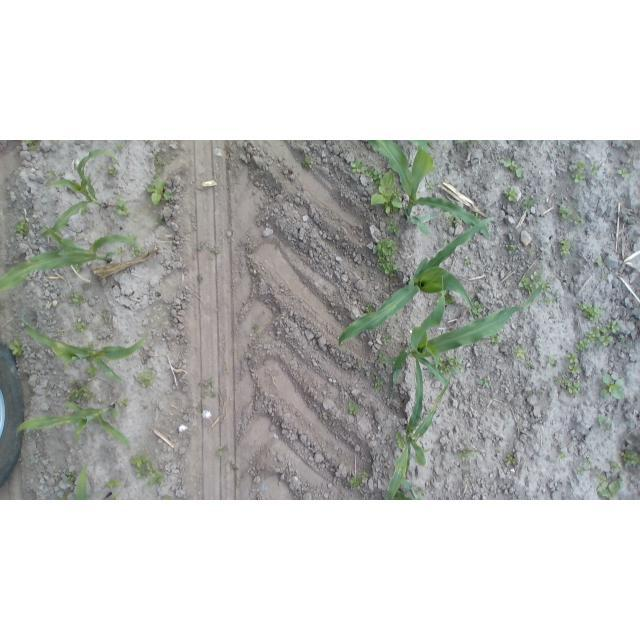Maize: (385, 269, 546, 403), (339, 217, 494, 348), (362, 140, 490, 240), (0, 221, 142, 292), (384, 360, 453, 501), (21, 309, 146, 384), (41, 150, 121, 238), (17, 403, 130, 450), (75, 464, 118, 501), (395, 478, 421, 500), (81, 205, 90, 216)
Weeds: (370, 169, 403, 214), (585, 320, 620, 347), (376, 238, 399, 278), (600, 374, 625, 400), (147, 179, 171, 206), (597, 477, 624, 500), (578, 302, 605, 323), (518, 271, 541, 293), (438, 354, 463, 374), (501, 158, 524, 179), (146, 462, 165, 487), (68, 385, 93, 403), (366, 167, 385, 190), (115, 195, 132, 217), (620, 450, 640, 467), (350, 472, 367, 491), (137, 371, 156, 388), (560, 378, 580, 394), (567, 352, 581, 374), (436, 290, 455, 306), (68, 292, 85, 309), (559, 204, 577, 220), (457, 447, 479, 460), (598, 413, 612, 433), (130, 454, 148, 469), (350, 158, 368, 173), (9, 339, 24, 357), (444, 211, 460, 227), (13, 220, 29, 236), (387, 219, 402, 235), (559, 238, 571, 257), (204, 381, 217, 398), (512, 347, 527, 361), (470, 301, 483, 317), (574, 338, 590, 351), (523, 194, 534, 212), (505, 187, 518, 202), (396, 432, 406, 451), (591, 469, 605, 482), (572, 170, 585, 184), (86, 363, 98, 378), (504, 452, 517, 465), (348, 401, 360, 415), (105, 479, 121, 489), (373, 376, 383, 392), (478, 376, 491, 388), (131, 246, 144, 258), (540, 296, 557, 305), (590, 161, 600, 176), (66, 472, 77, 485), (302, 155, 313, 168), (76, 322, 89, 333), (547, 355, 557, 369), (24, 140, 39, 149), (136, 468, 148, 479), (106, 167, 118, 178), (618, 168, 631, 178), (488, 336, 502, 345), (217, 447, 228, 458), (73, 263, 84, 274), (381, 334, 391, 346), (120, 398, 129, 411), (610, 462, 622, 471), (573, 161, 585, 170), (153, 218, 165, 227), (116, 246, 126, 256), (543, 281, 552, 292), (577, 466, 588, 475), (156, 156, 165, 167), (154, 169, 163, 180), (59, 492, 69, 501), (365, 304, 373, 315), (454, 141, 482, 144), (472, 212, 481, 221), (575, 217, 584, 226), (210, 246, 220, 254), (595, 256, 603, 266), (47, 169, 56, 177), (464, 256, 471, 266), (527, 361, 534, 371), (426, 182, 434, 190), (417, 489, 425, 497), (130, 234, 138, 242), (197, 242, 204, 251), (529, 246, 535, 256), (197, 405, 203, 415), (558, 453, 566, 460), (379, 354, 386, 362), (253, 323, 260, 331), (507, 245, 516, 251), (554, 377, 561, 384), (116, 144, 123, 151), (357, 360, 362, 368), (430, 371, 435, 378), (97, 166, 104, 171), (229, 463, 235, 468), (604, 274, 608, 281), (469, 224, 474, 229), (586, 460, 591, 465), (162, 497, 170, 500), (148, 367, 154, 371), (70, 380, 75, 384), (145, 140, 153, 142), (541, 390, 544, 394), (54, 140, 58, 142)
